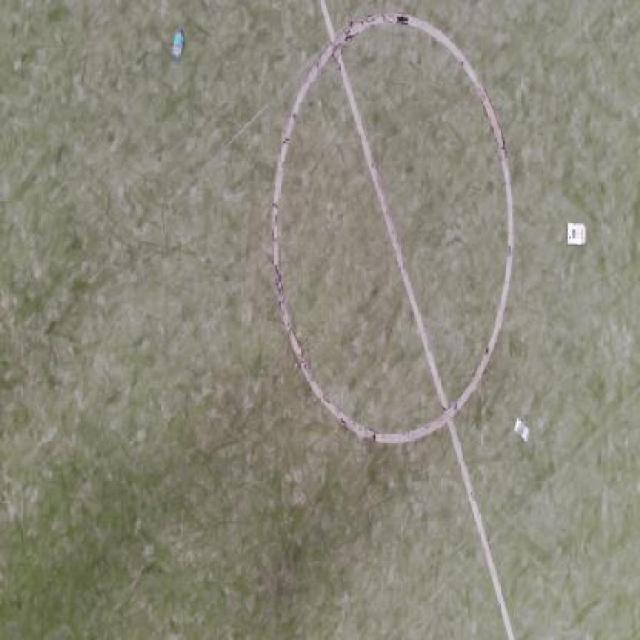Garbage: (513, 417, 530, 445), (170, 27, 184, 60), (568, 223, 585, 245)
